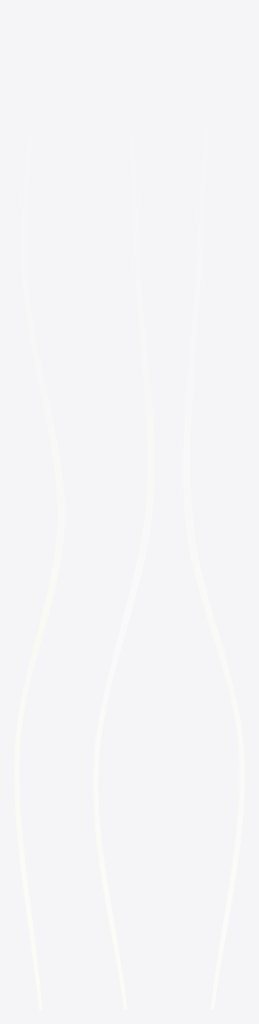
The model's file is strand_a_cairn.glb.
The picture shows the model from 3 angles, left to right: view 1: azimuth 90°, elevation 25°; view 2: azimuth 150°, elevation 25°; view 3: azimuth 330°, elevation 25°; orthographic projection.
Bounding box in the file's own units: 0.3251 × 7 × 0.3223.
